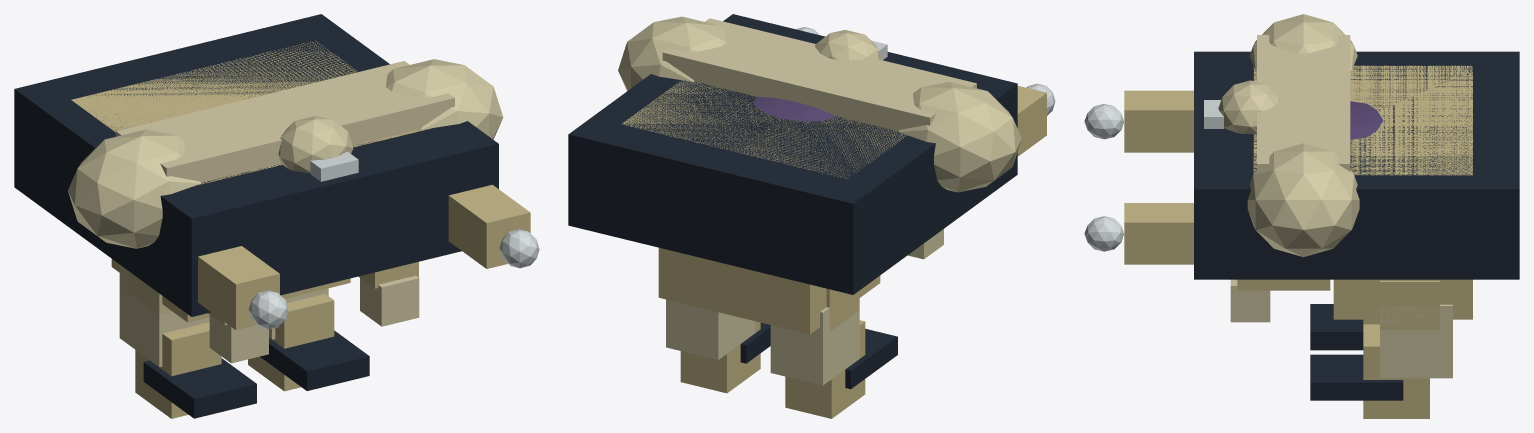
File: helias_bulwark.glb
3 views of the same model, side by side, from view 1: azimuth 30°, elevation 25°; view 2: azimuth 150°, elevation 25°; view 3: azimuth 270°, elevation 25° (orthographic). The views are drawn at different scales.
Parts seen in each view (by area): view 1: body_shadow, shoulder_bridge, body, shoulder_-1, shoulder_1, cannon_1, cannon_-1, foot_-1, foot_1, upper_leg_-1, lower_leg_-1, lower_leg_1 (+9 smaller); view 2: body_shadow, shoulder_bridge, shoulder_-1, pelvis, body, upper_leg_-1, shoulder_1, upper_leg_1, lower_leg_-1, lower_leg_1, cannon_-1, foot_-1 (+5 smaller); view 3: body_shadow, body, shoulder_bridge, shoulder_1, upper_leg_1, cannon_-1, cannon_1, foot_1, pelvis, hip_1, lower_leg_1, shoulder_-1 (+8 smaller).
Part boxes in pixels (x1,y1,x2,y2): body_shadow: (14, 14, 498, 316); shoulder_bridge: (116, 61, 454, 182); body: (71, 40, 432, 186); shoulder_-1: (68, 129, 200, 248); shoulder_1: (386, 59, 503, 139); cannon_1: (448, 184, 530, 268); cannon_-1: (198, 246, 279, 330); foot_-1: (143, 358, 256, 418); foot_1: (260, 330, 369, 390); upper_leg_-1: (119, 265, 209, 366); lower_leg_-1: (135, 322, 221, 418); lower_leg_1: (248, 294, 334, 391); body_shadow: (568, 14, 1017, 294); shoulder_bridge: (662, 18, 976, 130); shoulder_-1: (898, 81, 1021, 192); pelvis: (658, 247, 880, 334); body: (621, 80, 907, 178); upper_leg_-1: (770, 307, 859, 385); shoulder_1: (618, 16, 726, 90); upper_leg_1: (666, 299, 755, 359); lower_leg_-1: (785, 320, 865, 418); lower_leg_1: (680, 321, 760, 393); cannon_-1: (1017, 85, 1046, 156); foot_-1: (845, 328, 897, 389); body_shadow: (1194, 51, 1519, 279); body: (1253, 65, 1472, 175); shoulder_bridge: (1257, 35, 1350, 171); shoulder_1: (1247, 143, 1359, 257); upper_leg_1: (1380, 304, 1452, 378); cannon_-1: (1124, 90, 1193, 152); cannon_1: (1124, 203, 1193, 264); foot_1: (1310, 354, 1403, 400); pelvis: (1333, 279, 1472, 319); hip_1: (1380, 280, 1439, 329); lower_leg_1: (1363, 324, 1429, 418); shoulder_-1: (1249, 14, 1357, 71).
Bounding box in the file's own units: 1.35 × 0.99 × 1.31.
